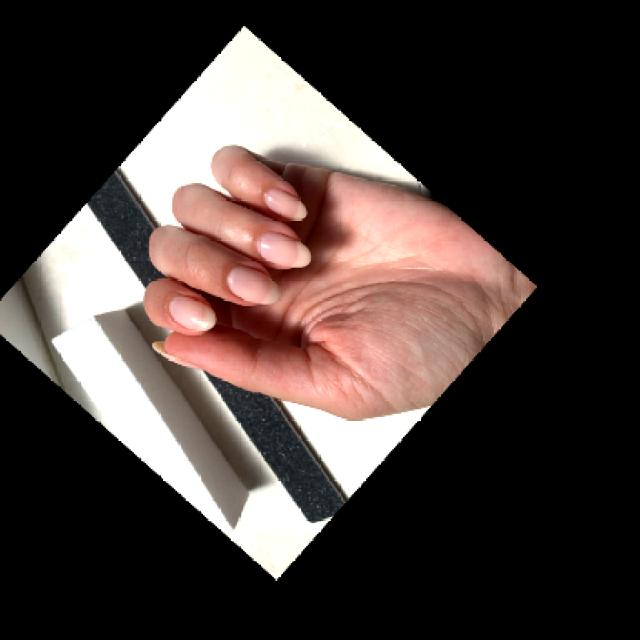Nail: (256, 232, 311, 268), (228, 267, 280, 305), (169, 296, 216, 331), (264, 189, 306, 220)
